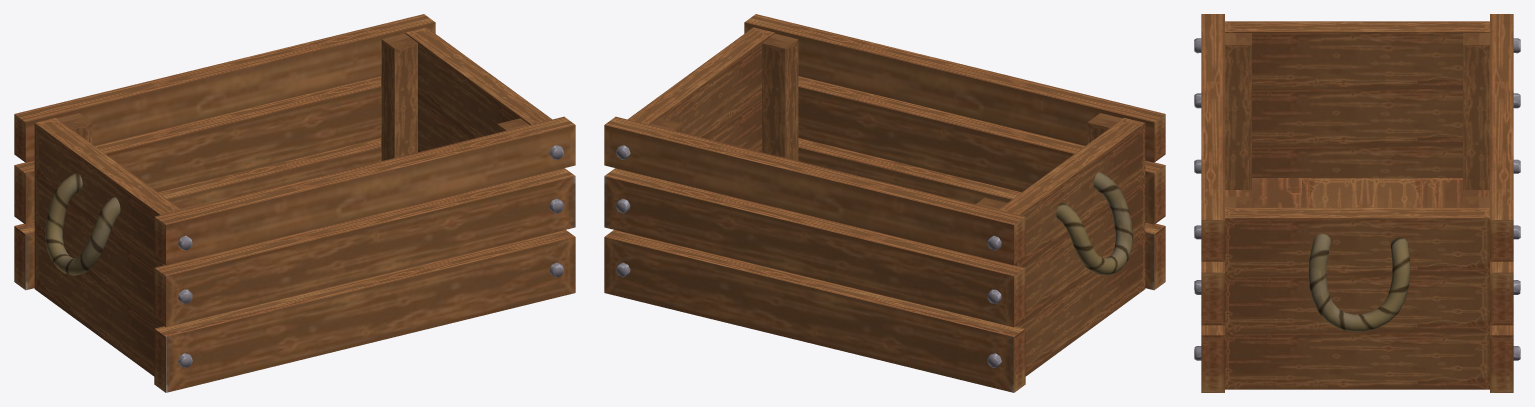
The model's file is prop_farmcrate_empty.glb.
3 renders of one model, left to right at view 1: azimuth 30°, elevation 25°; view 2: azimuth 150°, elevation 25°; view 3: azimuth 270°, elevation 25°, orthographic. The views are drawn at different scales.
Parts seen in each view (by area): view 1: Cube127, Cube127_1; view 2: Cube127, Cube127_1; view 3: Cube127, Cube127_1.
Part boxes in pixels (box(x1,y1,x2,y2)): Cube127: box(14, 14, 575, 392); Cube127_1: box(178, 145, 563, 367); Cube127: box(604, 14, 1165, 392); Cube127_1: box(616, 145, 1001, 367); Cube127: box(1201, 14, 1513, 392); Cube127_1: box(1194, 38, 1520, 360).
Bounding box in the file's own units: 0.7138 × 0.2438 × 0.4142.
2 materials, 2 textured.
